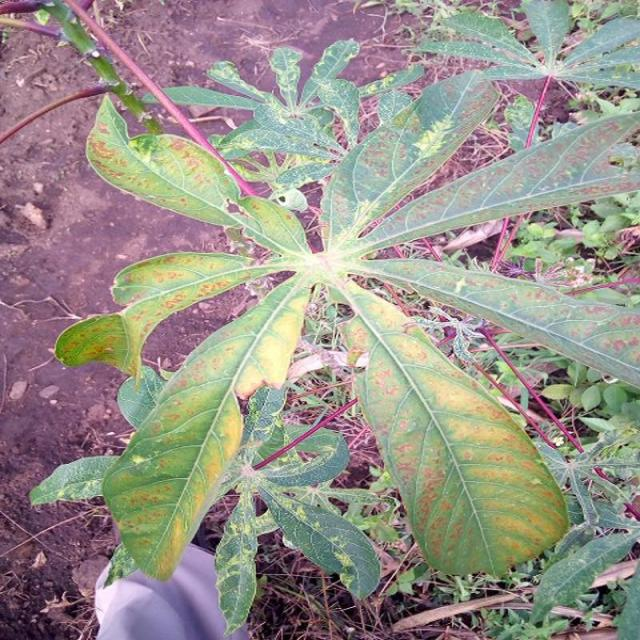cassava leaf: (35, 27, 638, 629), (336, 275, 570, 578), (100, 272, 310, 585), (84, 92, 243, 230)
